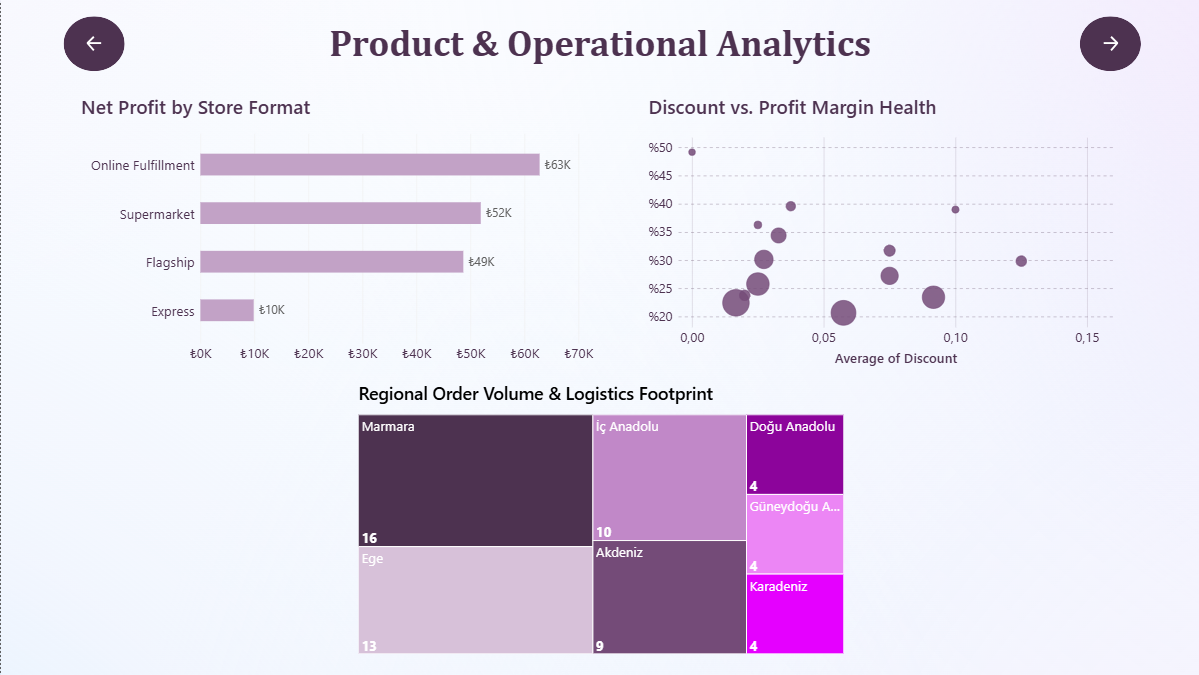

What the dashboard file says about the page in this screenshot:
{"tool":"powerbi","page":{"name":"Product & Operations","canvas":[1920,1080],"ordinal":1},"visuals":[{"type":"textbox","box":[500.7,34.9,917.1,71.5],"z":4000},{"type":"actionButton","box":[1726,26,98,88],"z":5000},{"type":"actionButton","box":[100,26,98,88],"z":5001},{"type":"scatterChart","title":"Discount vs. Profit Margin Health","fields":{"Category":["vw_SalesAnalytics.SubCategory"],"Size":["_KeyMeasures.Total Net Revenue"],"X":["Avg(vw_SalesAnalytics.Discount)"],"Y":["_KeyMeasures.Profit Margin %"]},"box":[1024,138,788,460],"z":5002},{"type":"clusteredBarChart","title":"Net Profit by Store Format","fields":{"Category":["vw_SalesAnalytics.StoreType"],"Y":["_KeyMeasures.Total Net Profit"]},"box":[116,138,844,460],"z":5003},{"type":"treemap","title":"Regional Order Volume & Logistics Footprint","fields":{"Group":["vw_SalesAnalytics.CustomerRegion"],"Values":["_KeyMeasures.Total Orders"]},"box":[559.4,598,800,460],"z":5004}]}

Visuals, with their boxes in screenshot pixels (x1, y1, x2, y2), scaled from the page's 1920x1080 canvas onto the 1199x675 screenshot:
textbox: bbox=[313, 22, 885, 66]
actionButton: bbox=[1078, 16, 1139, 71]
actionButton: bbox=[62, 16, 124, 71]
"Discount vs. Profit Margin Health" scatterChart: bbox=[639, 86, 1132, 374]
"Net Profit by Store Format" clusteredBarChart: bbox=[72, 86, 600, 374]
"Regional Order Volume & Logistics Footprint" treemap: bbox=[349, 374, 849, 661]
